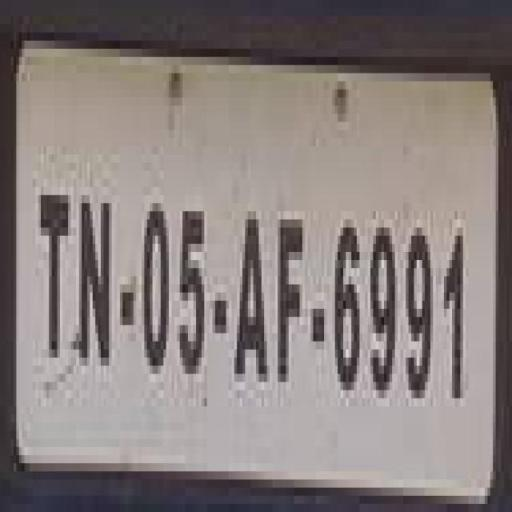number plate: (28, 73, 498, 463)
